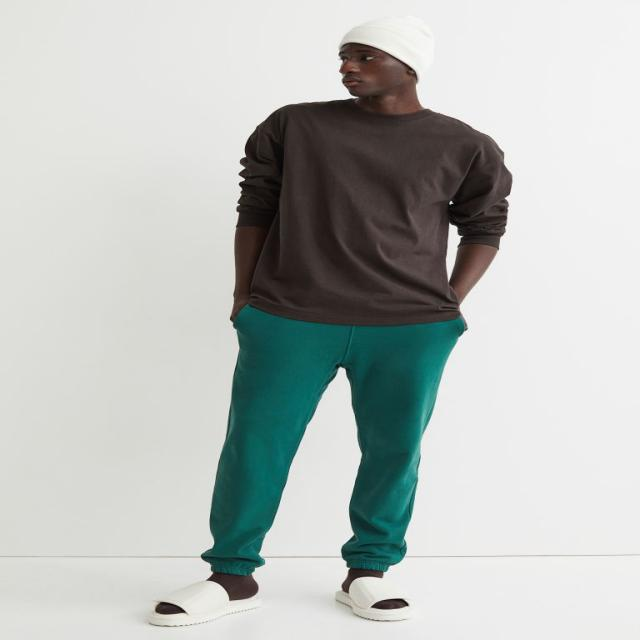plain: (235, 110, 520, 334)
